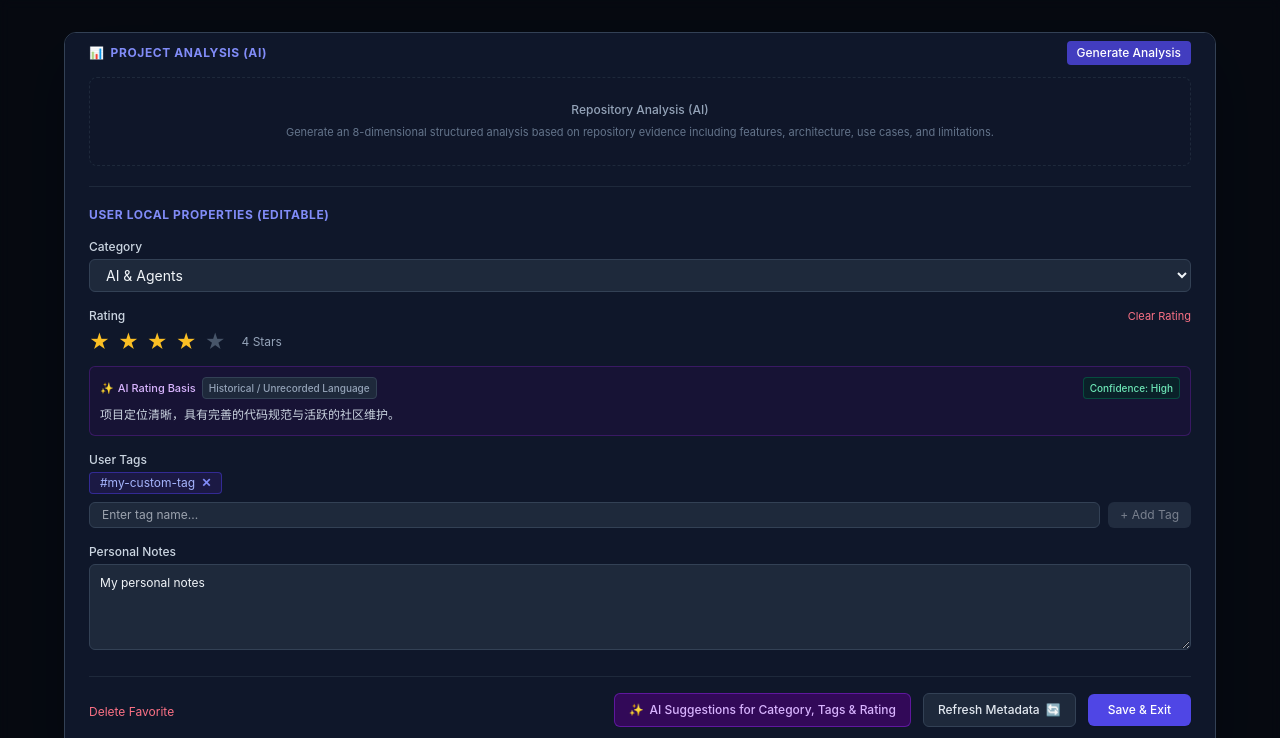
it: S1: AI Rating Reason Language Consistency & Historical Compatibility (R01) › async race: if targetLocale was 'en', but returns when user or system evaluates under different locale, shows mismatch badge
(page scrolled)
What coordinates should you click on to do the following:
click the button with test id "ai-suggest-btn"
I would click on:
 (762, 710)
Its box is [614, 692, 911, 726].
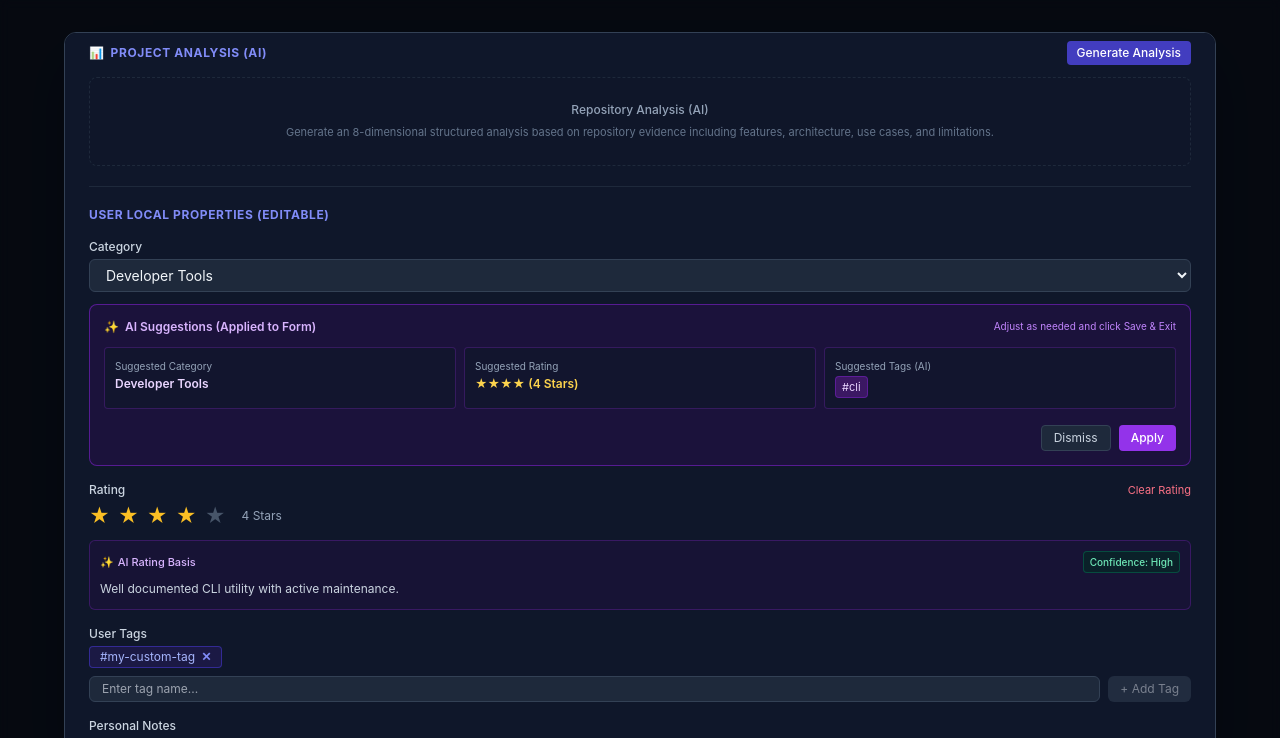
Result: the text with test id "ai-rating-reason-text" reads "Well documented CLI utility with active maintenance." at [100, 581, 399, 596]
